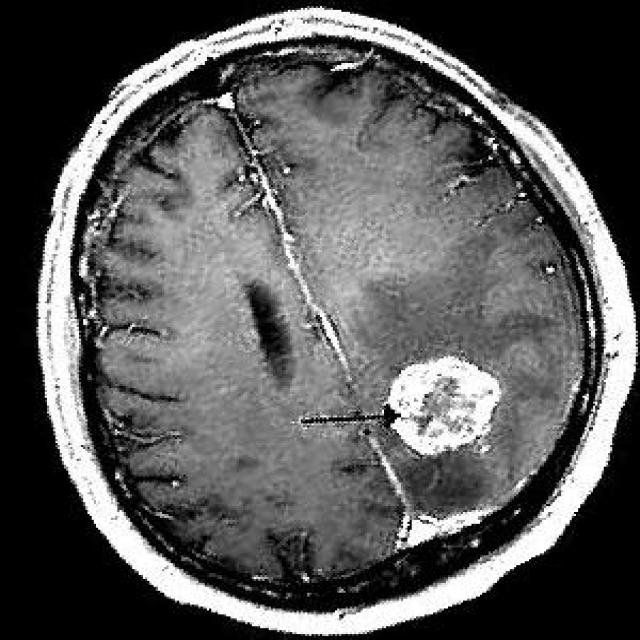Tumor-Cell: (361, 327, 514, 462)
